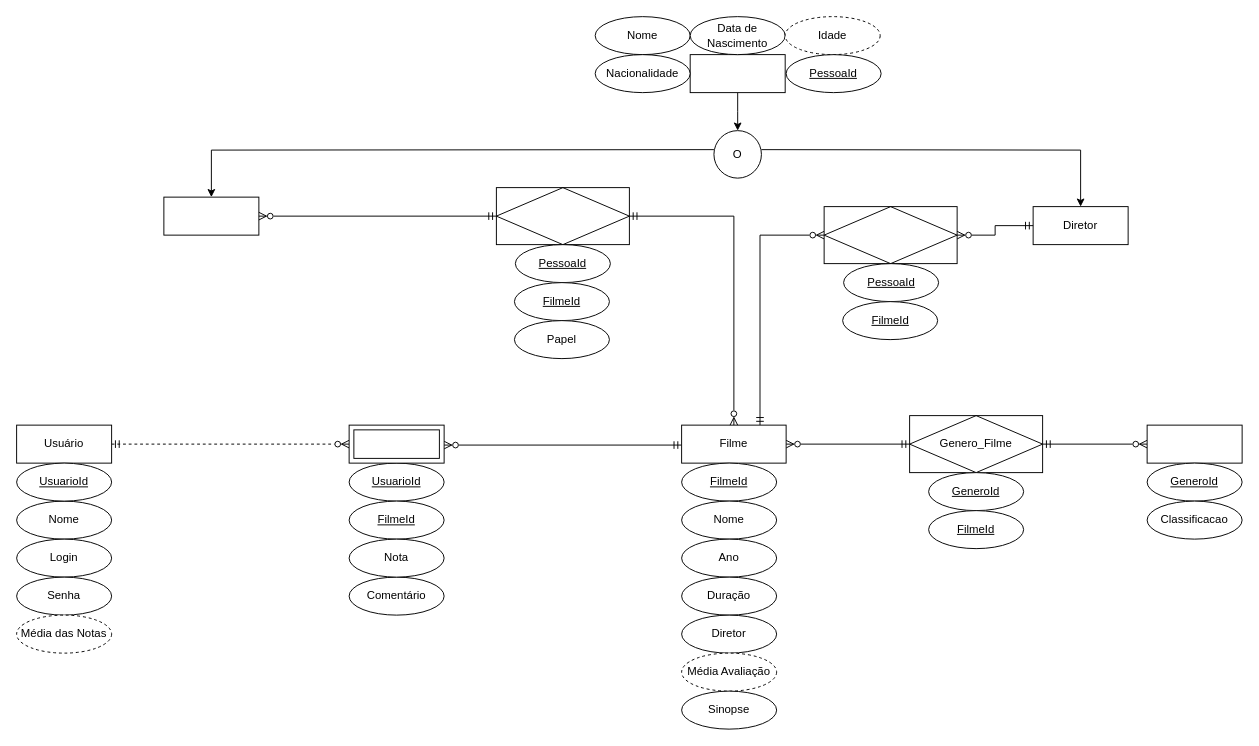
Image size: 1259x746. Some labels were removed from this diagram. The centre of each missing label's shape, as x and y in pixels:
"Ator" goes at (211,215).
"Ator_Filme" goes at (562,216).
"Avaliação" goes at (396,443).
"Diretor_Filme" goes at (890,235).
"Gênero" goes at (1194,443).
"Pessoa" goes at (737,73).
